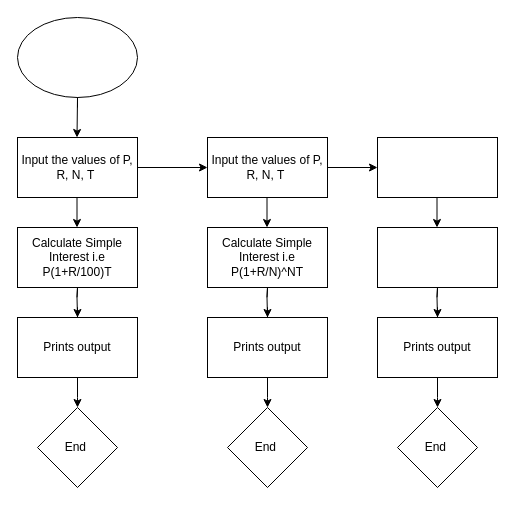
Image size: 515x505. Some labels were removed from this diagram. Each missing label, with the centre of its shape:
Calculate Annuity Plan i.e PMT[(1+R/N)^NT -1] / (R/N): pixel 437 257
Input the values of P, R, N, T and PMT: pixel 437 167
Start: pixel 77 57
